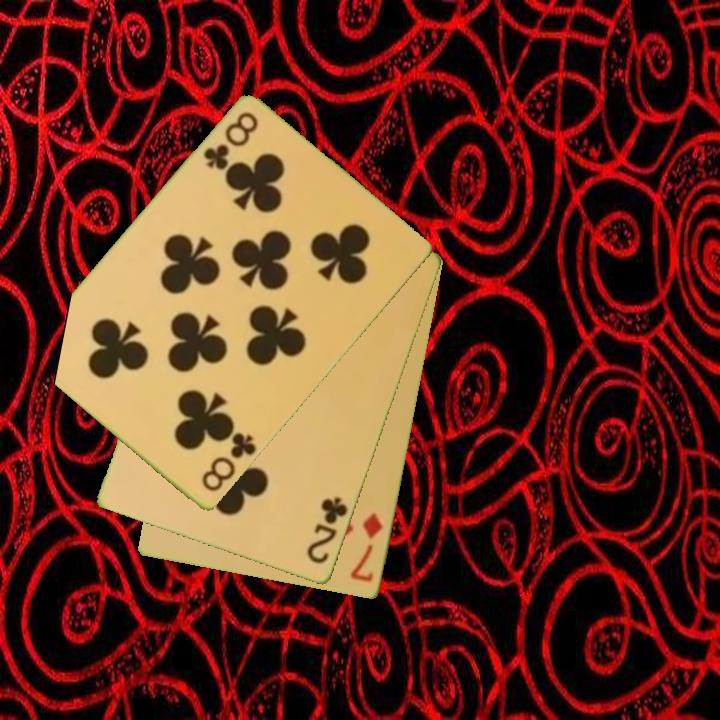2c: (303, 494, 351, 568)
7d: (347, 509, 387, 586)
8c: (198, 426, 259, 496), (199, 109, 262, 174)
